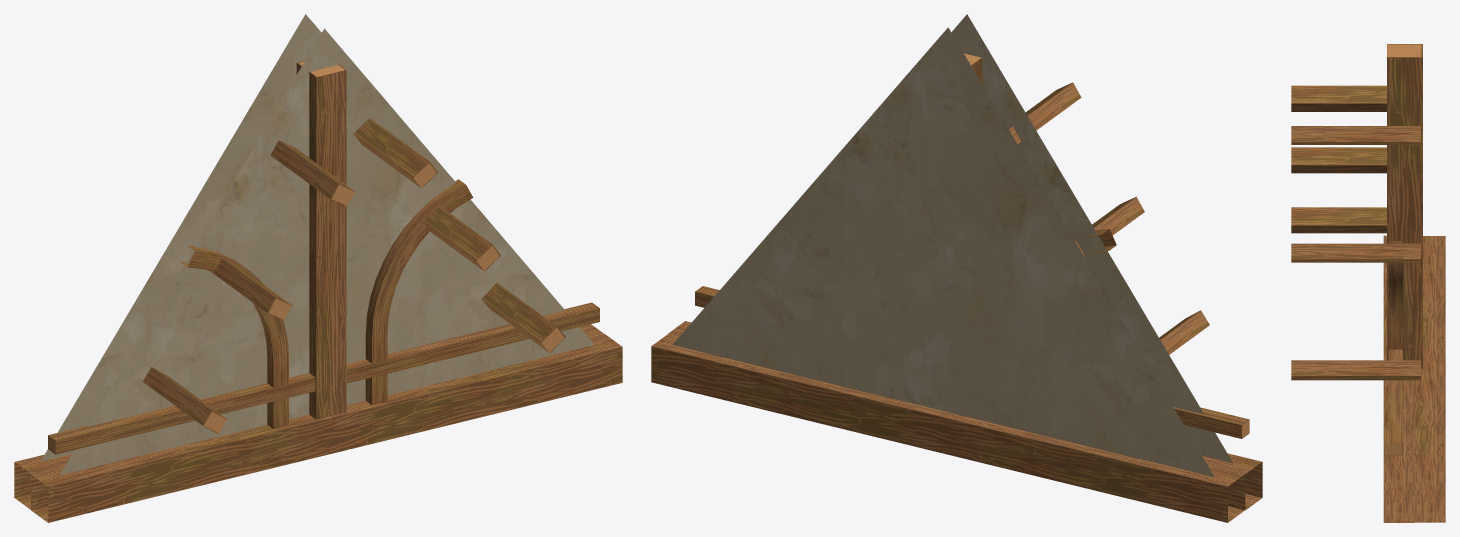
The model's file is Roof_Front_Brick4.gltf.
3 views of the same model, side by side, from view 1: azimuth 30°, elevation 25°; view 2: azimuth 150°, elevation 25°; view 3: azimuth 270°, elevation 25° (orthographic). The views are drawn at different scales.
Visible parts, largest first — view 1: Roof_Front_Brick4; view 2: Roof_Front_Brick4; view 3: Roof_Front_Brick4.
Part boxes in pixels (<box>): Roof_Front_Brick4: <box>14,14,622,522</box>; Roof_Front_Brick4: <box>651,14,1262,522</box>; Roof_Front_Brick4: <box>1291,44,1445,522</box>.
Size of the model in its own units: 4.4 by 3.07 by 1.13.
Materials: 2 (2 with a texture image).
